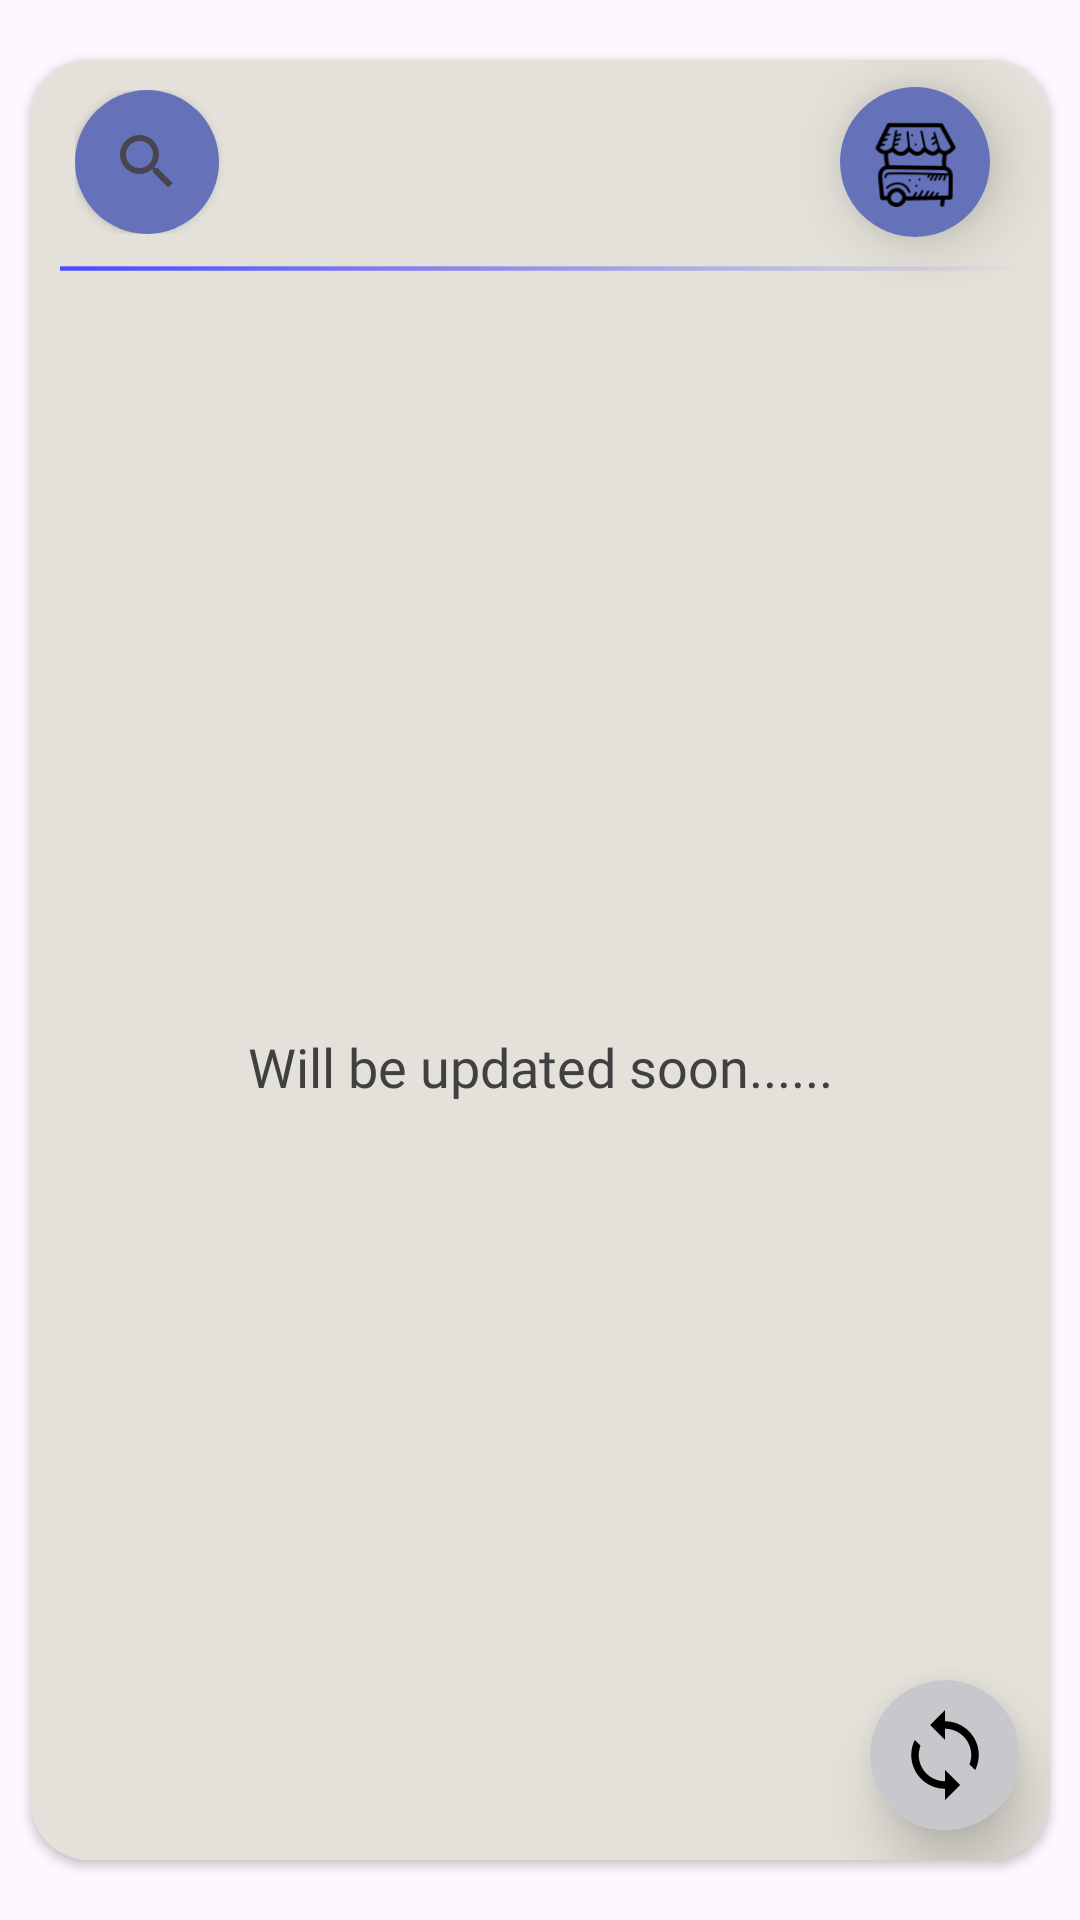

Icons on this 1080*1920 Android screen, each with its box as (x1, y1, x2, y2):
cart: (875, 123, 956, 207)
reload: (911, 1710, 979, 1800)
